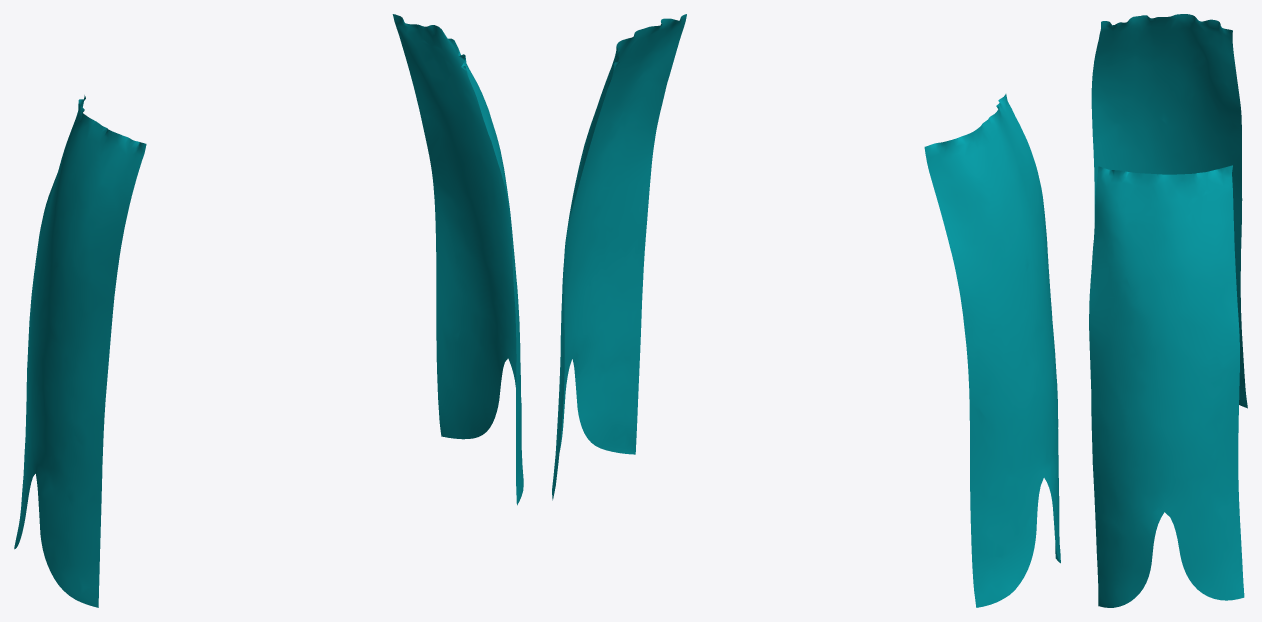
The model's file is stripe_curve.glb.
3 renders of one model, left to right at view 1: azimuth 30°, elevation 25°; view 2: azimuth 150°, elevation 25°; view 3: azimuth 270°, elevation 25°, orthographic. The views are drawn at different scales.
Visible parts, largest first — view 1: stripe_curve; view 2: stripe_curve; view 3: stripe_curve.
Part boxes in pixels (x1,y1,x2,y2): stripe_curve: (14,14,523,607); stripe_curve: (552,14,1060,607); stripe_curve: (1089,14,1247,607).
Bounding box in the file's own units: 2.11 × 1.92 × 0.6592.
